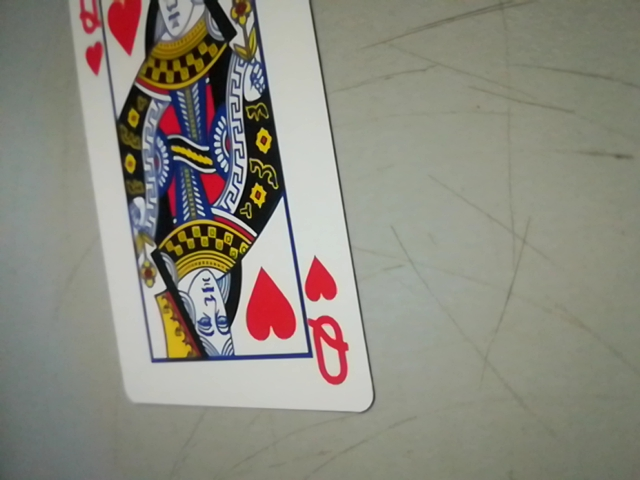hx q: (299, 253, 360, 395)
